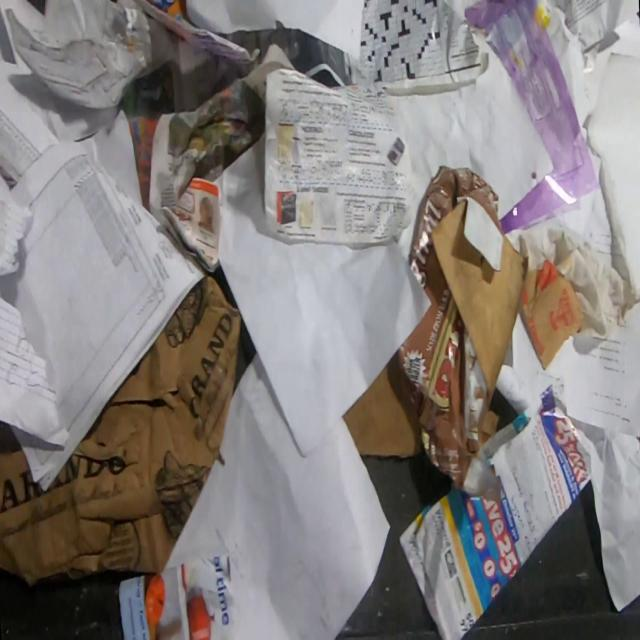cardboard: (0, 272, 243, 589), (398, 164, 528, 506), (342, 351, 424, 459)
soft_plastic: (463, 0, 602, 234)
